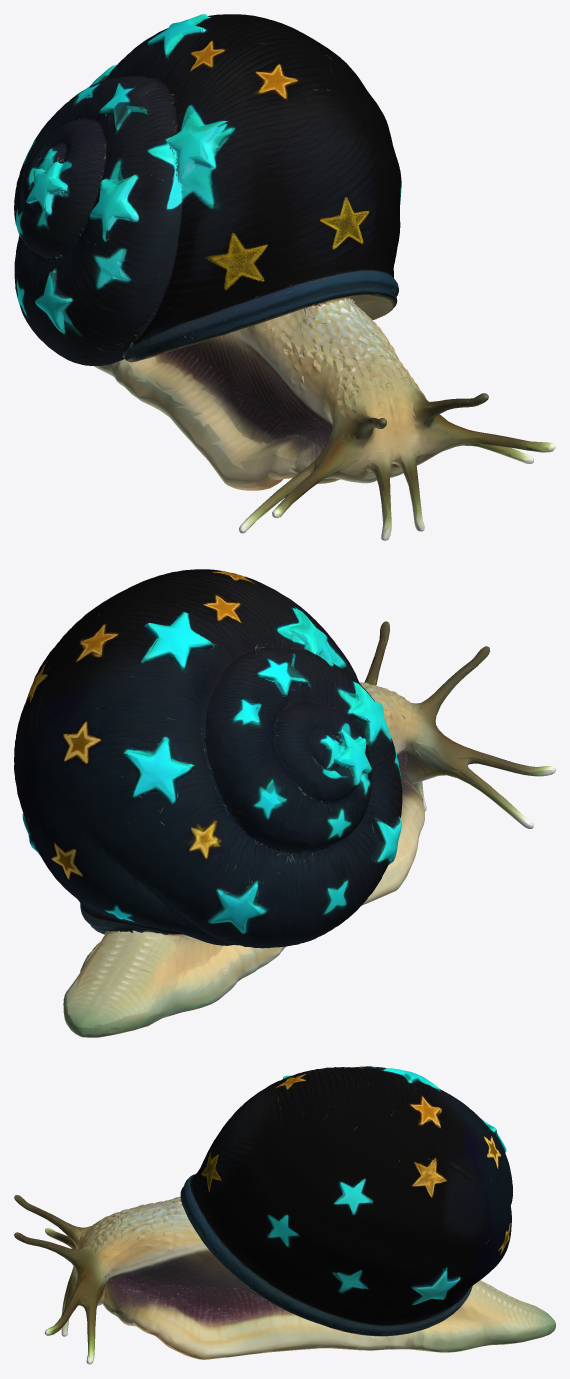
Rendered from lamp_snail.glb.
3 views of the same model, one above another, from view 1: azimuth 30°, elevation 25°; view 2: azimuth 150°, elevation 25°; view 3: azimuth 270°, elevation 25° (orthographic). The views are drawn at different scales.
Size of the model in its own units: 1.04 by 1.04 by 1.9.
1 material, 1 textured.
